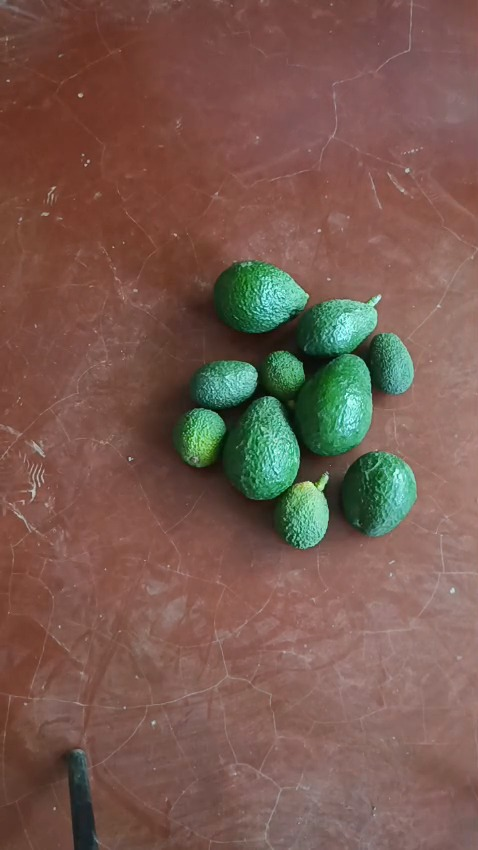Primera: (293, 353, 373, 456), (223, 396, 302, 499), (211, 259, 308, 334)
Segunda: (340, 450, 418, 535), (294, 299, 379, 356)
Tercera: (274, 482, 329, 548), (189, 360, 258, 410), (172, 407, 227, 468), (366, 332, 414, 395), (258, 350, 305, 401)
